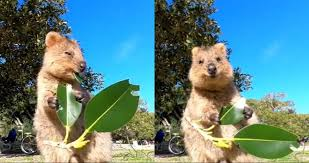quokka: (16, 30, 142, 163)
